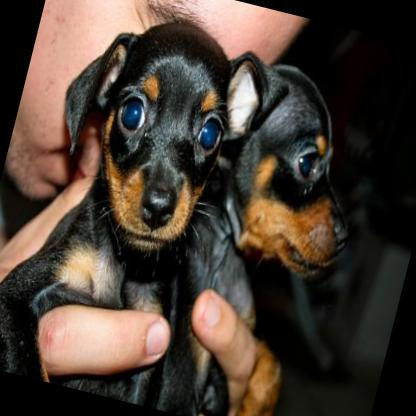miniature_pinscher: (0, 0, 303, 416), (143, 43, 388, 416)
